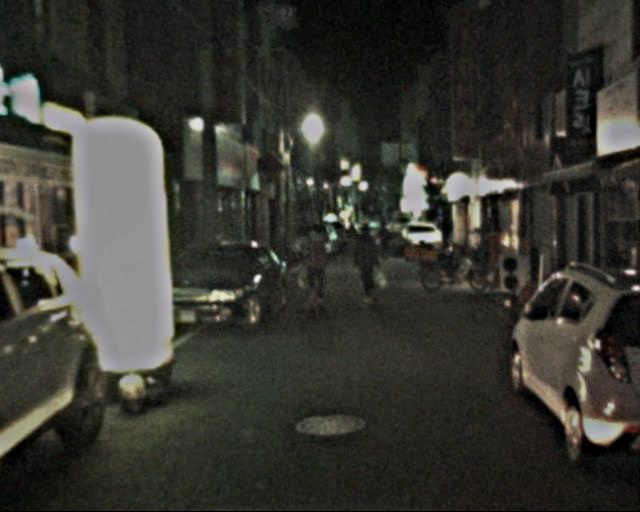person: (298, 222, 335, 309), (349, 225, 383, 308), (376, 215, 393, 257)
